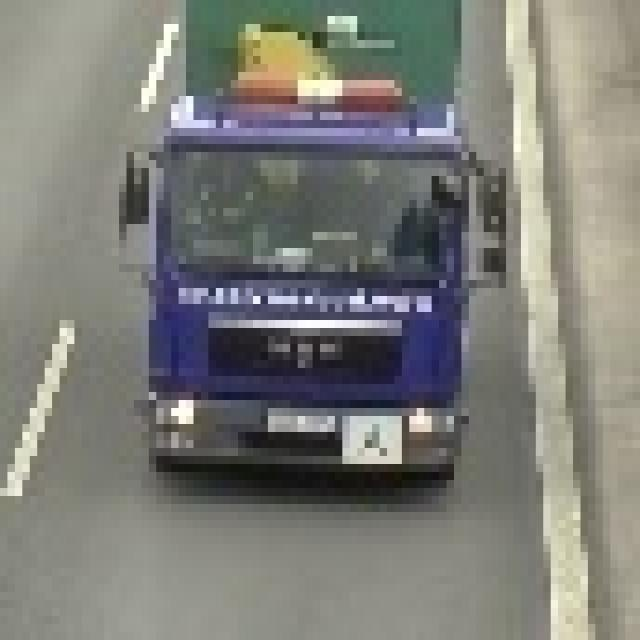Truck: (111, 0, 506, 472)
